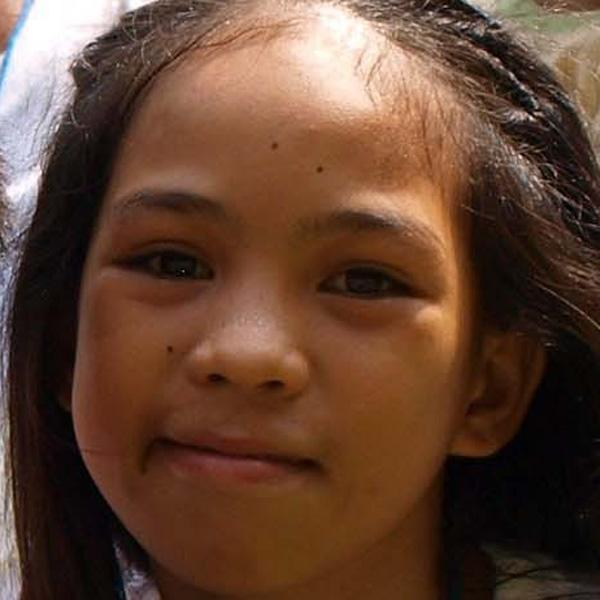Eyes: (303, 245, 432, 318), (107, 226, 222, 298)
